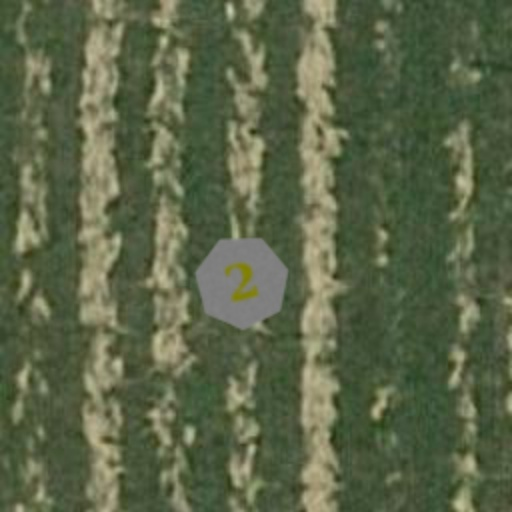heptagon: (182, 222, 302, 342)
